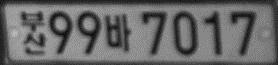0: (171, 11, 198, 54)
1: (201, 10, 227, 54)
7: (230, 9, 256, 55), (141, 10, 167, 54)
9: (76, 9, 101, 55), (48, 9, 73, 54)
바: (105, 13, 131, 51)
부산_V: (20, 9, 47, 55)
